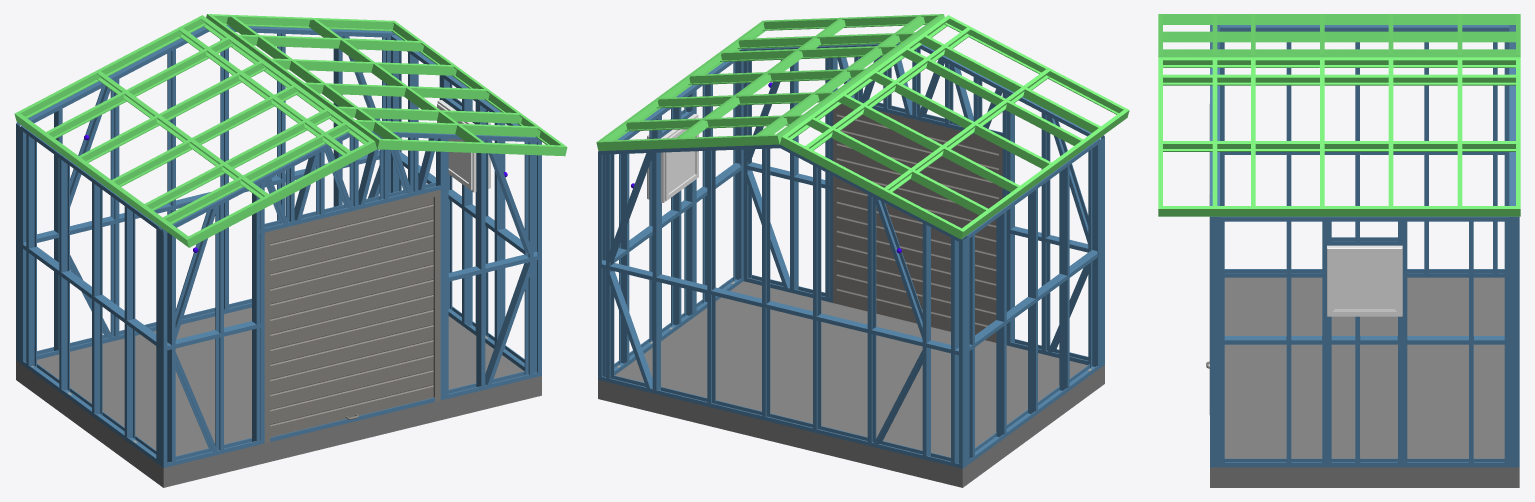
Rendered from shed.glb.
3 views of the same model, side by side, from view 1: azimuth 30°, elevation 25°; view 2: azimuth 150°, elevation 25°; view 3: azimuth 270°, elevation 25° (orthographic). The views are drawn at different scales.
Parts seen in each view (by area): view 1: Mesh 35938, Mesh 27443, Mesh 10609, Mesh 19026, Mesh 11092, Mesh 10770, Mesh 10931, Mesh 16052, Mesh 2493, Mesh 8996, Mesh 3157, Mesh 1297 (+60 smaller); view 2: Mesh 27443, Mesh 35938, Mesh 27412, Mesh 25275, Mesh 26226, Mesh 25844, Mesh 10931, Mesh 10609, Mesh 10086, Mesh 26035, Mesh 25653, Mesh 3157 (+62 smaller); view 3: Mesh 27443, Mesh 36593, Mesh 5444, Mesh 2252, Mesh 7085, Mesh 6425, Mesh 3576, Mesh 5765, Mesh 22917, Mesh 12796, Mesh 18048, Mesh 15489 (+31 smaller).
Part boxes in pixels (x1,y1,x2,y2): Mesh 35938: (264, 189, 440, 443); Mesh 27443: (16, 307, 541, 487); Mesh 10609: (124, 206, 135, 439); Mesh 19026: (163, 368, 541, 467); Mesh 11092: (26, 134, 36, 367); Mesh 10770: (92, 182, 102, 415); Mesh 10931: (59, 158, 69, 391); Mesh 16052: (158, 227, 167, 467); Mesh 2493: (187, 141, 376, 247); Mesh 8996: (476, 140, 485, 386); Mesh 3157: (18, 17, 206, 118); Mesh 1297: (111, 85, 299, 186); Mesh 27443: (598, 281, 1104, 487); Mesh 35938: (833, 104, 1002, 342); Mesh 27412: (601, 260, 958, 355); Mesh 25275: (598, 373, 962, 468); Mesh 26226: (867, 194, 876, 442); Mesh 25844: (762, 148, 770, 416); Mesh 10931: (996, 211, 1006, 436); Mesh 10609: (1059, 165, 1069, 390); Mesh 10086: (1090, 143, 1100, 367); Mesh 26035: (813, 165, 821, 429); Mesh 25653: (707, 150, 715, 403); Mesh 3157: (780, 137, 962, 239); Mesh 27443: (1210, 277, 1519, 487); Mesh 36593: (1327, 245, 1402, 316); Mesh 5444: (1162, 74, 1516, 85); Mesh 2252: (1163, 31, 1515, 42); Mesh 7085: (1158, 206, 1520, 216); Mesh 6425: (1158, 57, 1520, 67); Mesh 3576: (1158, 14, 1520, 24); Mesh 5765: (1162, 141, 1516, 151); Mesh 22917: (1509, 217, 1519, 466); Mesh 12796: (1220, 458, 1509, 467); Mesh 18048: (1210, 217, 1219, 466); Mesh 15489: (1224, 336, 1504, 344).
Bounding box in the file's own units: 4.07 × 3.22 × 3.16.
